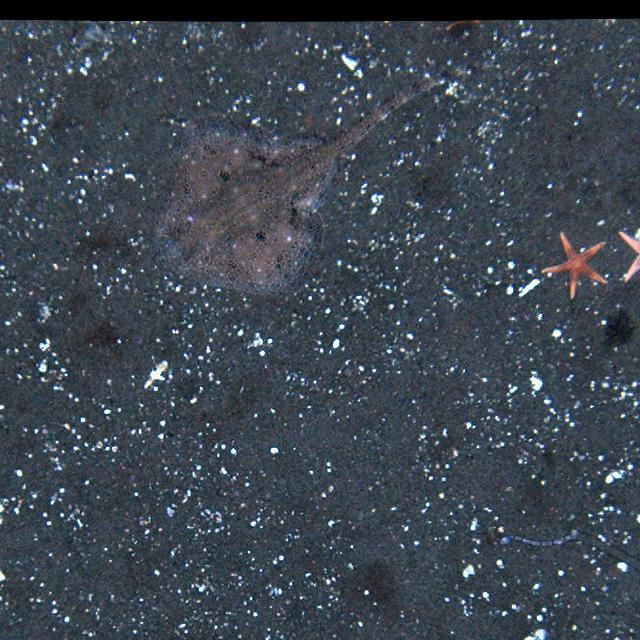skate: (170, 74, 446, 292)
